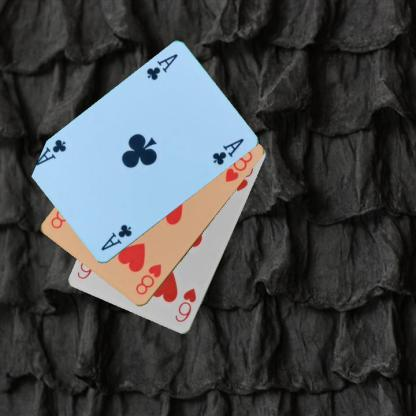6h: (172, 286, 198, 324)
8h: (133, 262, 163, 296)
Ac: (143, 51, 179, 82), (98, 222, 134, 252)
